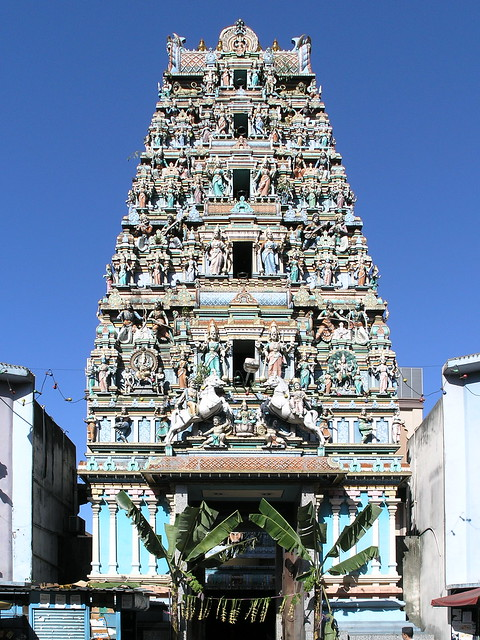Hindu Temple: (111, 14, 386, 599)
